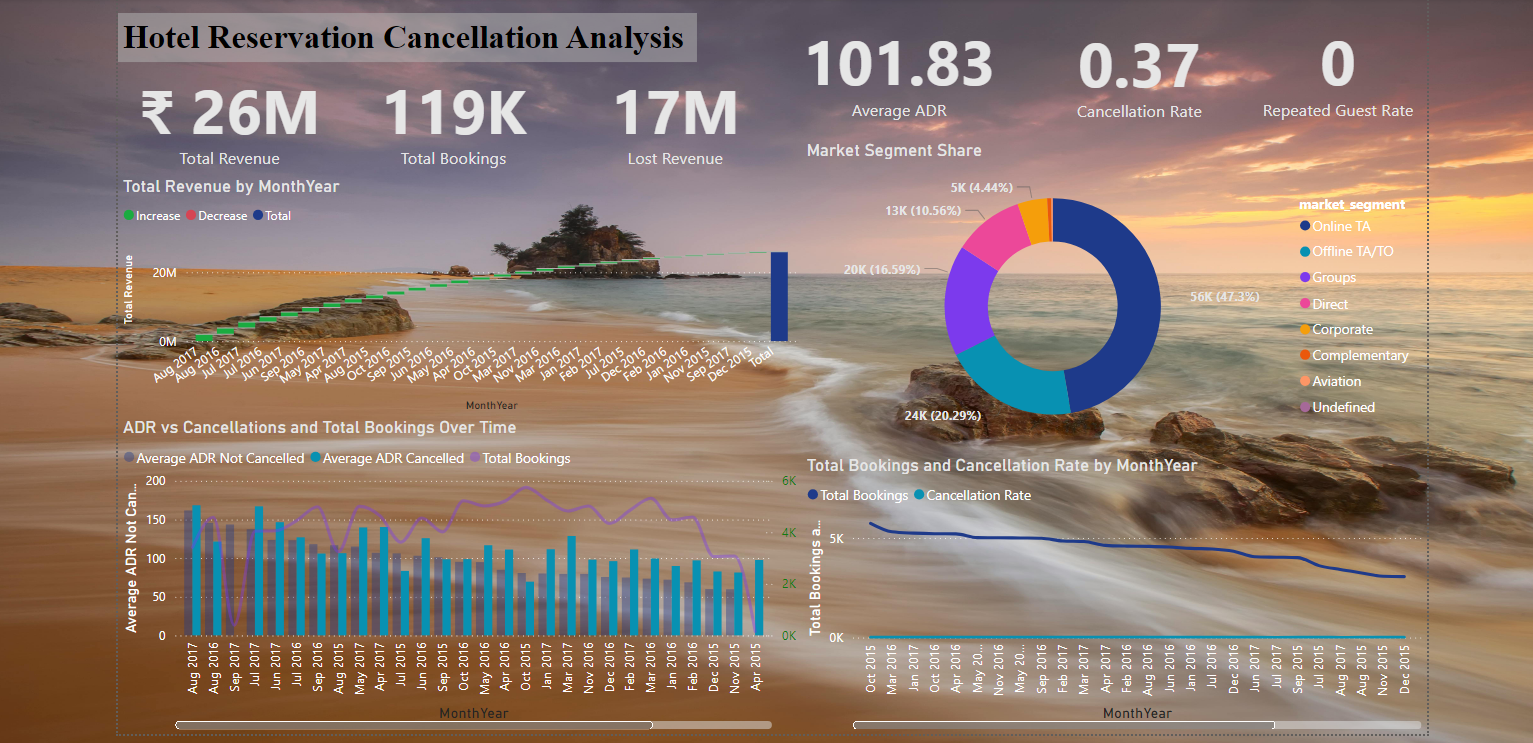

Layout of this report page (visuals, bound fields, positions):
{"tool":"powerbi","page":{"name":"Executive Summary","canvas":[1280,720],"ordinal":0},"visuals":[{"type":"card","fields":{"Values":["hotel_booking.Total Revenue"]},"box":[0,62.4,218.9,111.3],"z":0},{"type":"textbox","box":[0,14.7,566.2,47.7],"z":1000},{"type":"card","fields":{"Values":["hotel_booking.Total Bookings"]},"box":[218.9,62.4,218.9,111.3],"z":2000},{"type":"card","fields":{"Values":["hotel_booking.Lost Revenue"]},"box":[451.2,62.4,188.3,111.3],"z":3000},{"type":"card","fields":{"Values":["hotel_booking.Average ADR"]},"box":[640.1,15.1,249.8,111.7],"z":4000},{"type":"card","fields":{"Values":["hotel_booking.Cancellation Rate"]},"box":[889.9,16.3,218.4,111.7],"z":5000},{"type":"card","fields":{"Values":["hotel_booking.Repeated Guest Rate"]},"box":[1108.3,15.1,172,111.7],"z":6000},{"type":"donutChart","title":"Market Segment Share","fields":{"Y":["hotel_booking.Total Bookings"],"Category":["hotel_booking.market_segment"]},"box":[668.9,138.2,611.4,308.2],"z":7000},{"type":"waterfallChart","fields":{"Category":["DateTable.MonthYear"],"Y":["hotel_booking.Total Revenue"]},"box":[0,173.6,668.9,236],"z":8000},{"type":"lineChart","fields":{"Y":["hotel_booking.Total Bookings","hotel_booking.Cancellation Rate"],"Category":["DateTable.MonthYear"]},"box":[668.9,446.3,611.4,273.9],"z":9000},{"type":"lineClusteredColumnComboChart","title":"ADR vs Cancellations and Total Bookings Over Time","fields":{"Category":["DateTable.MonthYear"],"Y":["hotel_booking.Average ADR Not Cancelled","hotel_booking.Average ADR Cancelled"],"Y2":["hotel_booking.Total Bookings"]},"box":[0,409.6,668.9,310.6],"z":10000}]}

Visuals, with their boxes on the page's 1280x720 design canvas (x1, y1, x2, y2). These are canvas units, not pixel positions in the 1533x743 screenshot, which may show the page scaled, cropped or inside an application window:
card - hotel_booking.Total Revenue: detection(0, 62, 219, 174)
textbox: detection(0, 15, 566, 62)
card - hotel_booking.Total Bookings: detection(219, 62, 438, 174)
card - hotel_booking.Lost Revenue: detection(451, 62, 640, 174)
card - hotel_booking.Average ADR: detection(640, 15, 890, 127)
card - hotel_booking.Cancellation Rate: detection(890, 16, 1108, 128)
card - hotel_booking.Repeated Guest Rate: detection(1108, 15, 1280, 127)
"Market Segment Share" donutChart: detection(669, 138, 1280, 446)
waterfallChart - DateTable.MonthYear x hotel_booking.Total Revenue: detection(0, 174, 669, 410)
lineChart - hotel_booking.Total Bookings x hotel_booking.Cancellation Rate: detection(669, 446, 1280, 720)
"ADR vs Cancellations and Total Bookings Over Time" lineClusteredColumnComboChart: detection(0, 410, 669, 720)
